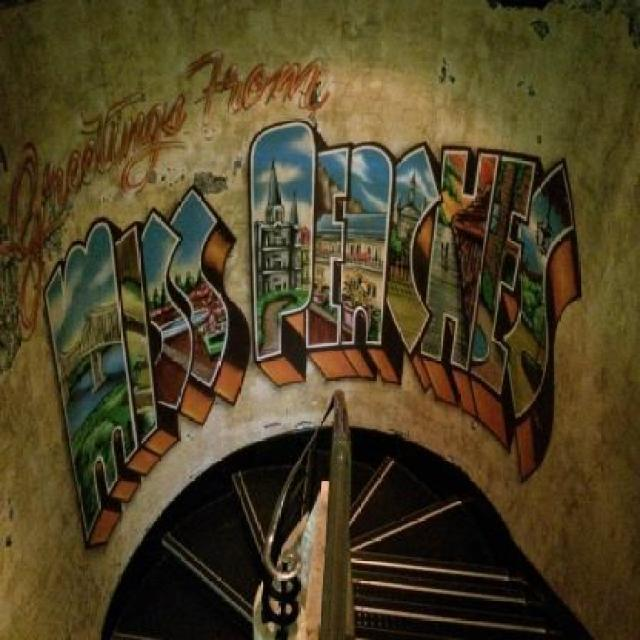stair: (101, 427, 593, 640)
